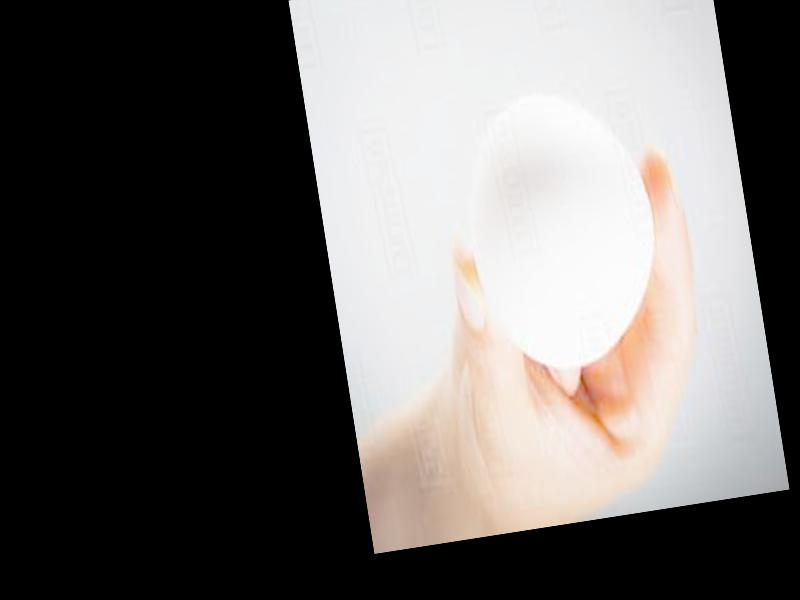Eggs: (454, 80, 673, 377)
